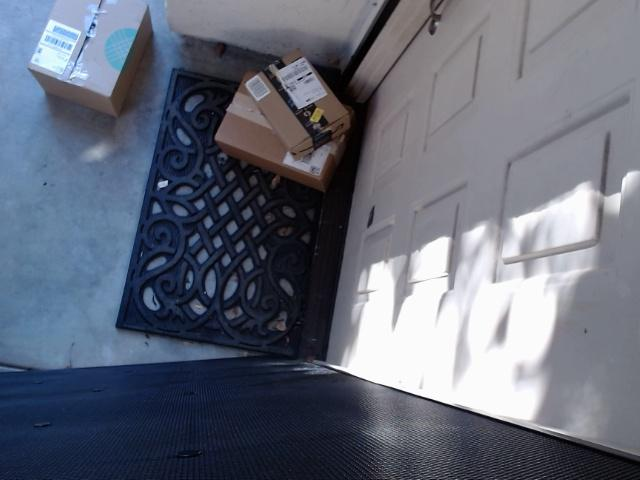box: (0, 0, 166, 144), (202, 61, 362, 207), (243, 52, 361, 157)
